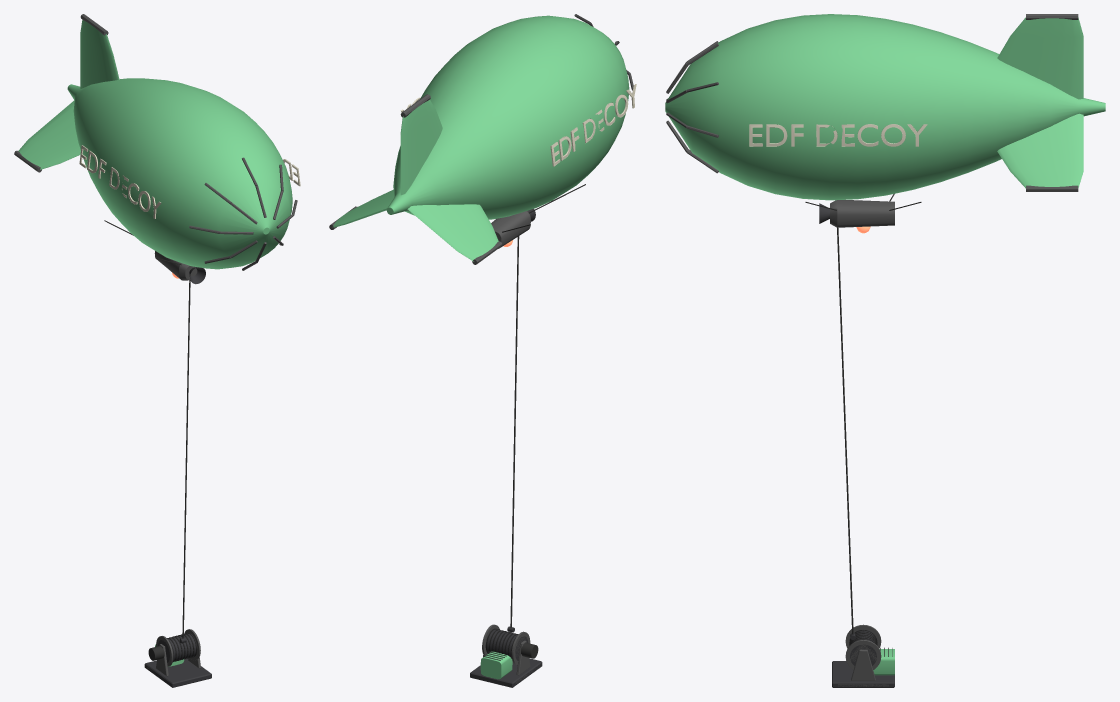
The model's file is decoy.glb.
3 views of the same model, side by side, from view 1: azimuth 30°, elevation 25°; view 2: azimuth 150°, elevation 25°; view 3: azimuth 270°, elevation 25° (orthographic). The views are drawn at different scales.
Visible parts, largest first — view 1: Body; view 2: Body; view 3: Body.
Boxes of the visible parts, x1=… form: Body: x1=14, y1=14, x2=300, y2=687; Body: x1=329, y1=14, x2=636, y2=687; Body: x1=665, y1=14, x2=1105, y2=687.
Bounding box in the file's own units: 1.78 × 6.98 × 4.2.
